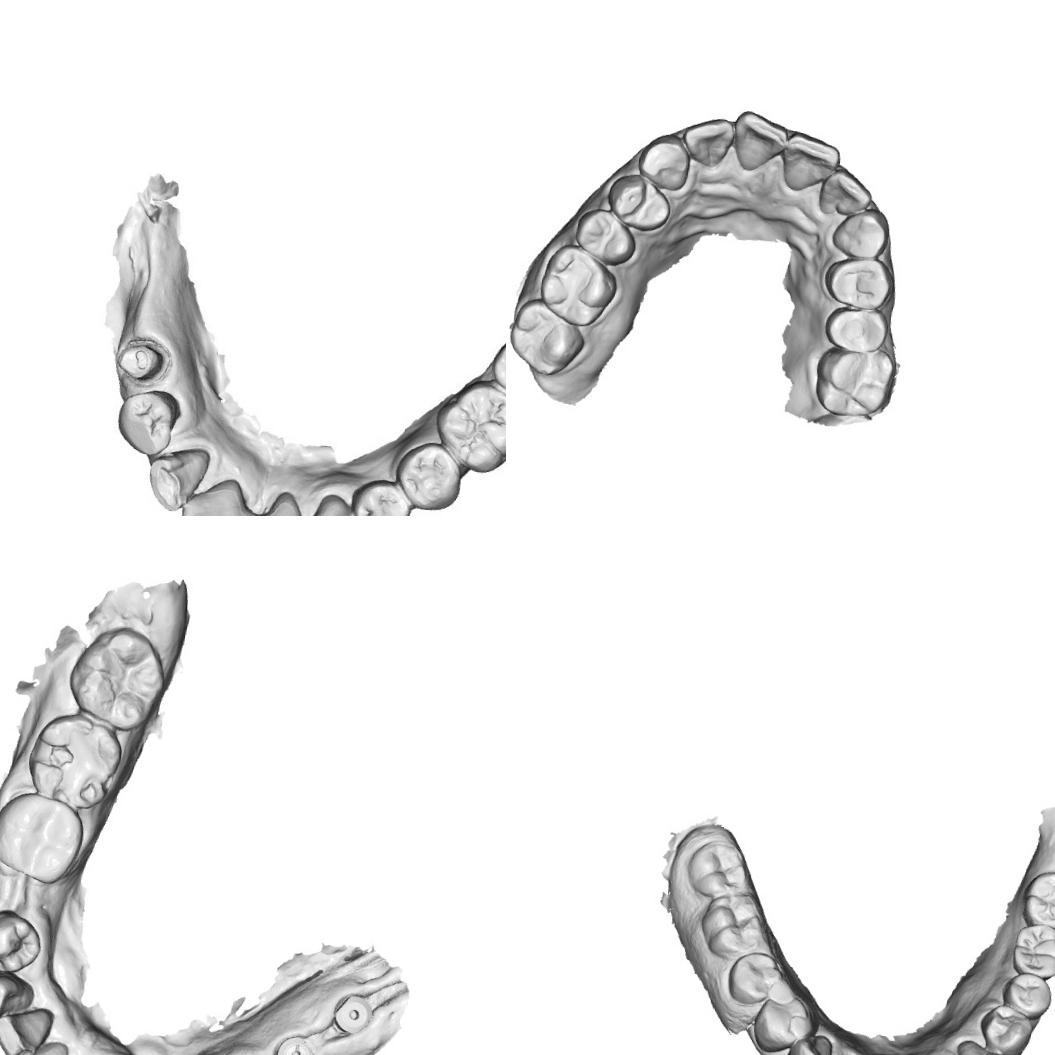canine: (142, 442, 212, 516), (828, 204, 896, 262), (635, 130, 694, 192), (302, 490, 369, 516), (0, 974, 26, 1036), (782, 1028, 836, 1055), (952, 1038, 1011, 1055)
crown: (115, 337, 166, 389)
implant: (331, 991, 375, 1038)
implant_minus: (274, 1036, 317, 1055)
incisor: (780, 128, 844, 197), (728, 107, 789, 175), (678, 114, 738, 172), (816, 164, 876, 220), (175, 478, 247, 516), (0, 1005, 48, 1055), (256, 500, 312, 516), (213, 503, 269, 516), (13, 1041, 65, 1055)
molar: (63, 620, 171, 734), (23, 710, 128, 811), (0, 788, 85, 888), (535, 241, 622, 332), (506, 294, 590, 381), (811, 342, 898, 421), (437, 376, 506, 471), (696, 890, 771, 963), (683, 835, 755, 904), (1009, 919, 1055, 984), (1021, 866, 1055, 931)
premolar: (390, 439, 466, 515), (114, 384, 184, 459), (604, 170, 676, 235), (820, 252, 898, 312), (572, 206, 641, 270), (723, 948, 788, 1010), (749, 993, 814, 1055), (821, 302, 890, 356), (976, 1002, 1036, 1055), (0, 905, 45, 975), (349, 472, 415, 516), (999, 973, 1055, 1019)
